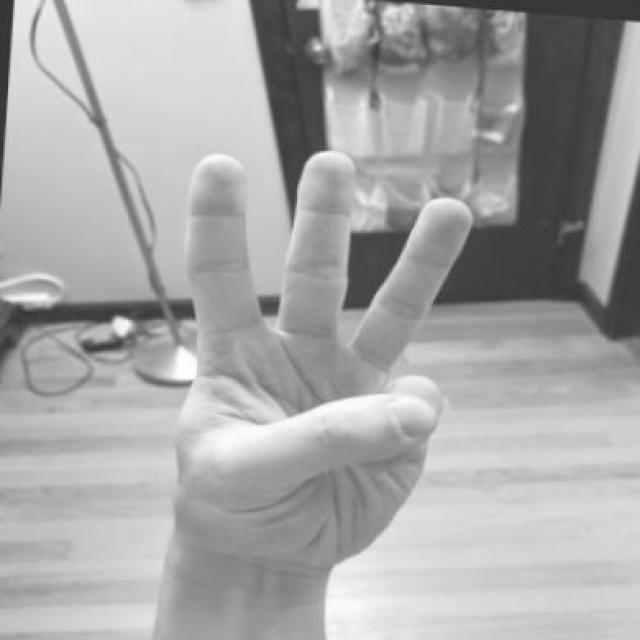W: (156, 130, 484, 577)
